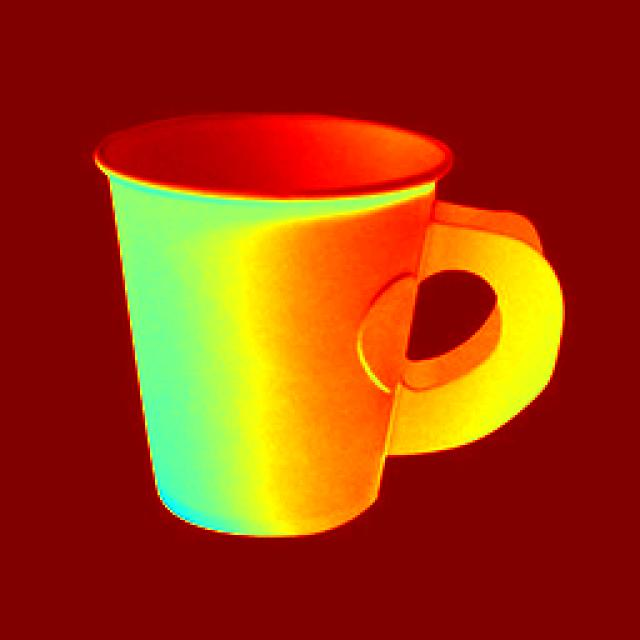Paper Cups: (82, 87, 545, 556)
